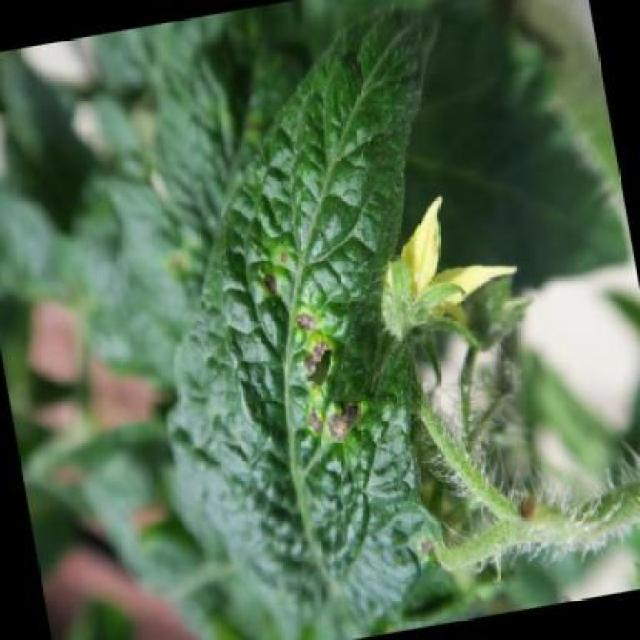Tomato leaf bacterial spot: (152, 209, 438, 526)
